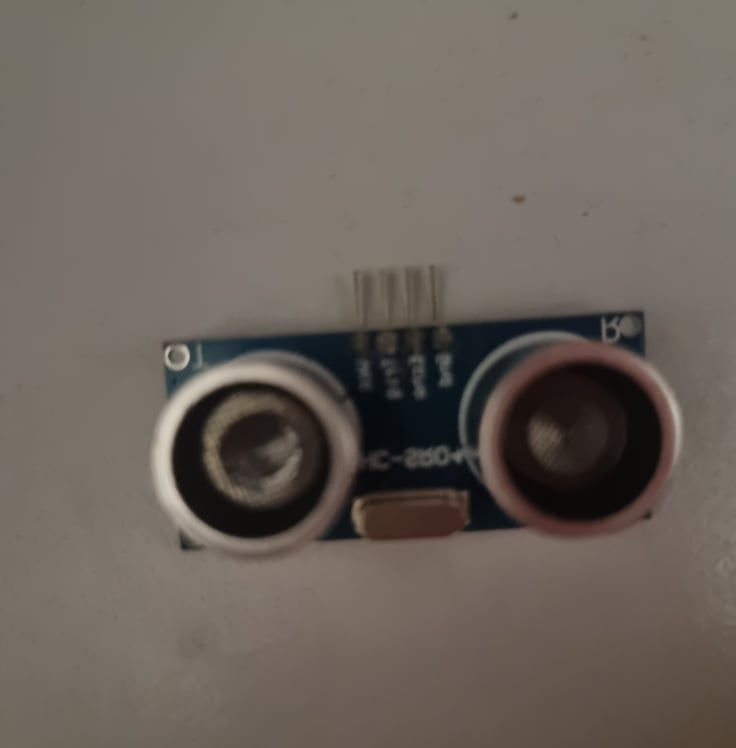SENSOR: (146, 306, 687, 568)
